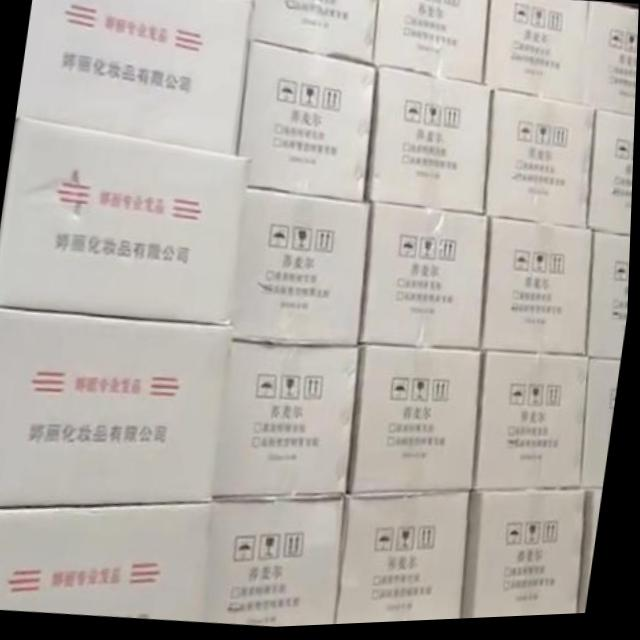box: (0, 116, 254, 328), (0, 307, 235, 507), (16, 0, 252, 157), (0, 504, 215, 624), (215, 340, 362, 498), (239, 43, 377, 204), (233, 190, 372, 349), (352, 346, 484, 497), (362, 203, 490, 353), (366, 71, 493, 219), (210, 497, 349, 629), (339, 494, 474, 628), (475, 352, 591, 493), (468, 492, 589, 623), (484, 221, 594, 360), (488, 96, 596, 232), (485, 0, 589, 110), (375, 0, 489, 87), (249, 0, 378, 67), (583, 6, 639, 121), (590, 112, 636, 240), (590, 237, 632, 366), (585, 362, 623, 493), (581, 492, 606, 619)
